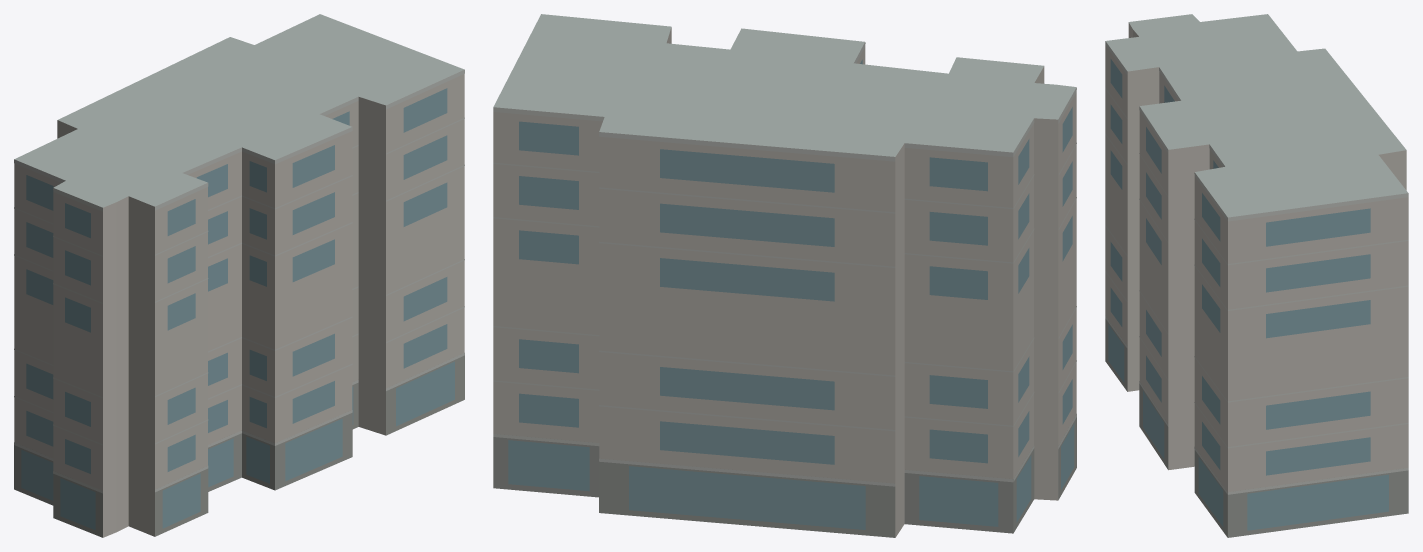
The model's file is survey-upis-32786392.glb.
3 renders of one model, left to right at view 1: azimuth 30°, elevation 25°; view 2: azimuth 150°, elevation 25°; view 3: azimuth 270°, elevation 25°, orthographic. The views are drawn at different scales.
Visible parts, largest first — view 1: survey-upis-32786392.tmp; view 2: survey-upis-32786392.tmp; view 3: survey-upis-32786392.tmp.
Part boxes in pixels (left/top/right/bottom): survey-upis-32786392.tmp: left=14, top=14, right=464, bottom=537; survey-upis-32786392.tmp: left=493, top=14, right=1076, bottom=537; survey-upis-32786392.tmp: left=1105, top=14, right=1408, bottom=537.
Bounding box in the file's own units: 26.76 × 19.62 × 16.85.
